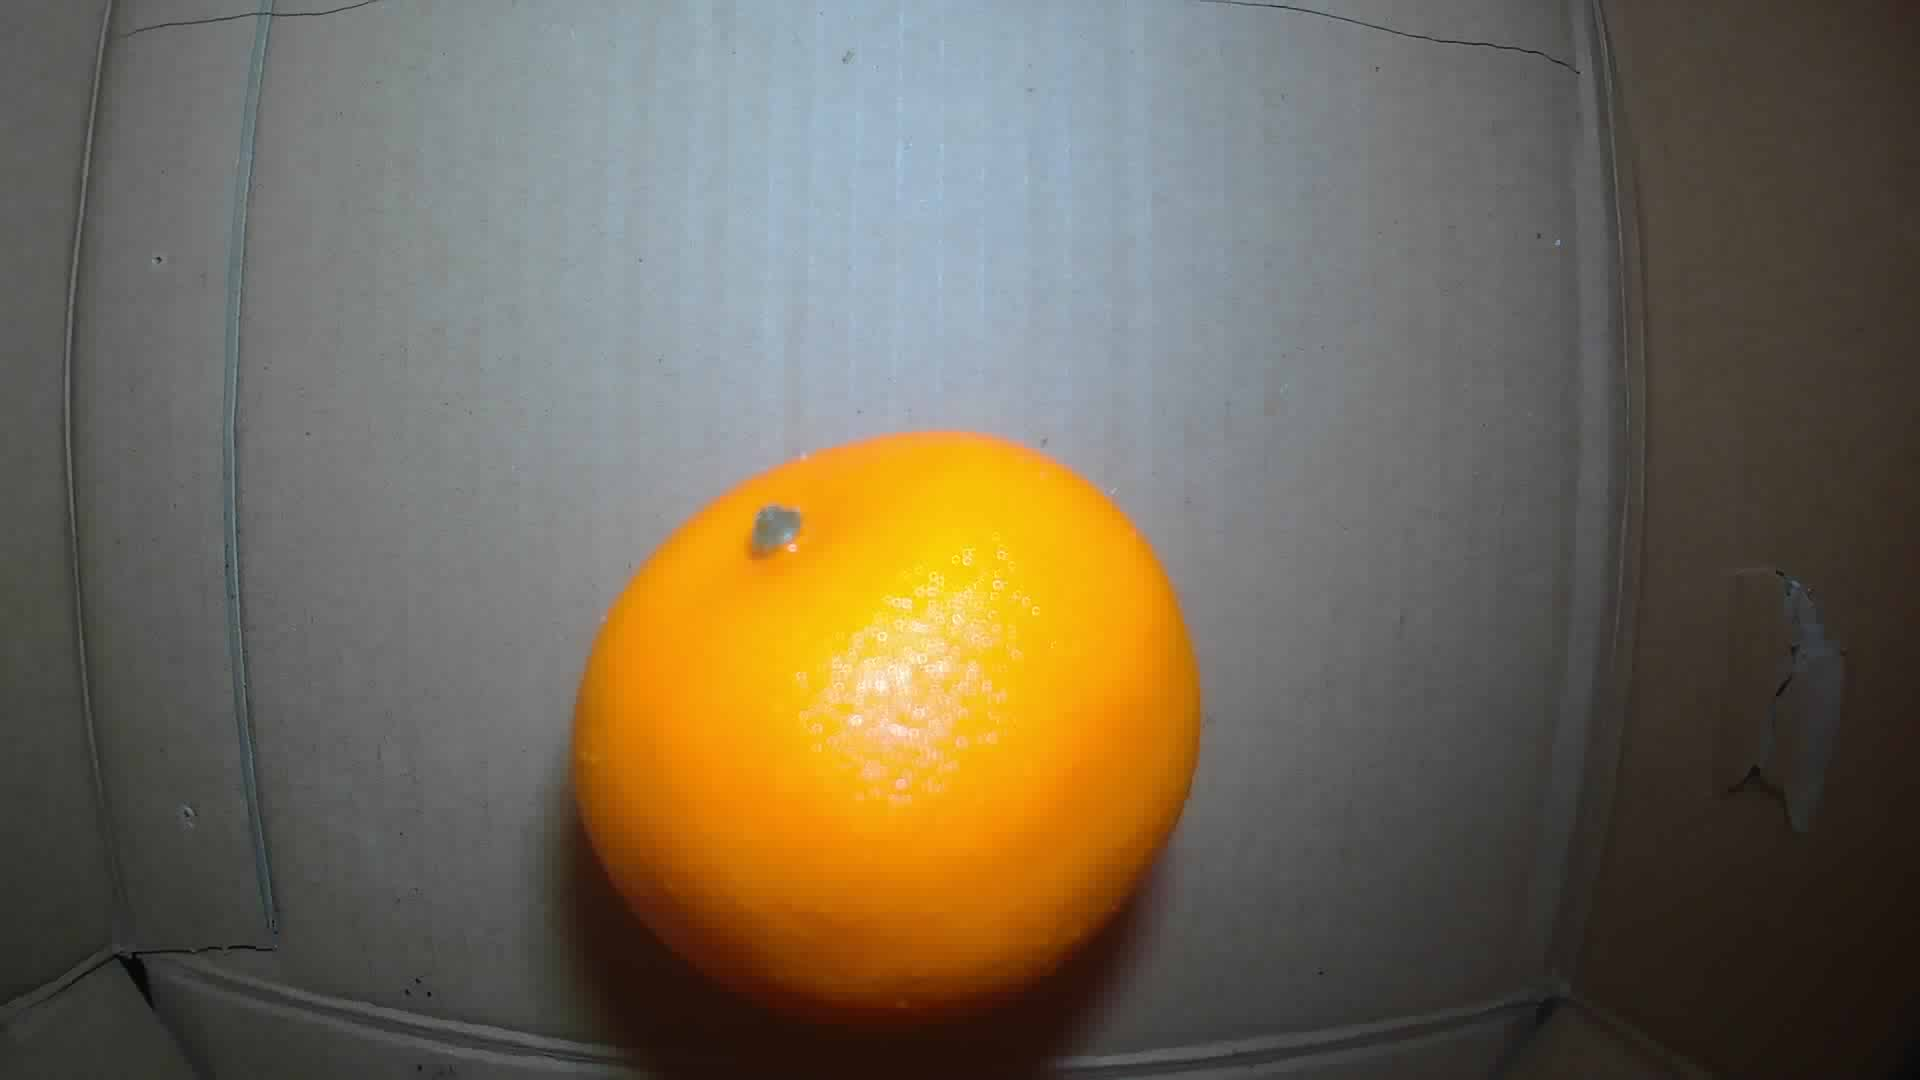orange: (574, 426, 1211, 1018)
